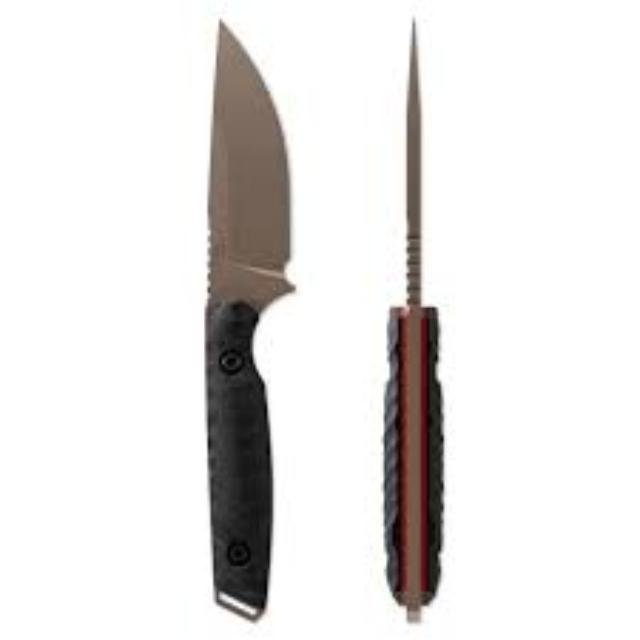Knife: (202, 14, 296, 620), (381, 11, 443, 622)
